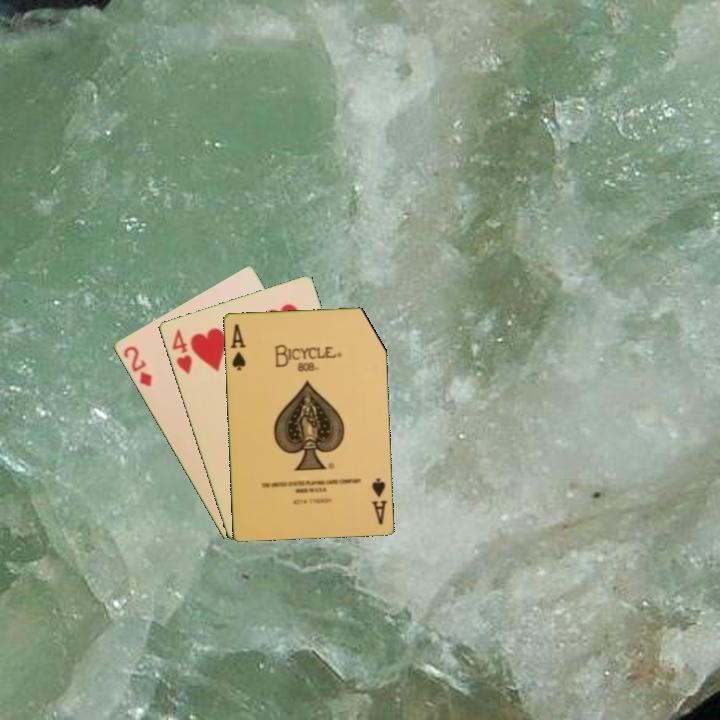2d: (119, 342, 155, 389)
4h: (168, 326, 195, 377)
As: (368, 474, 390, 527), (227, 320, 248, 373)
